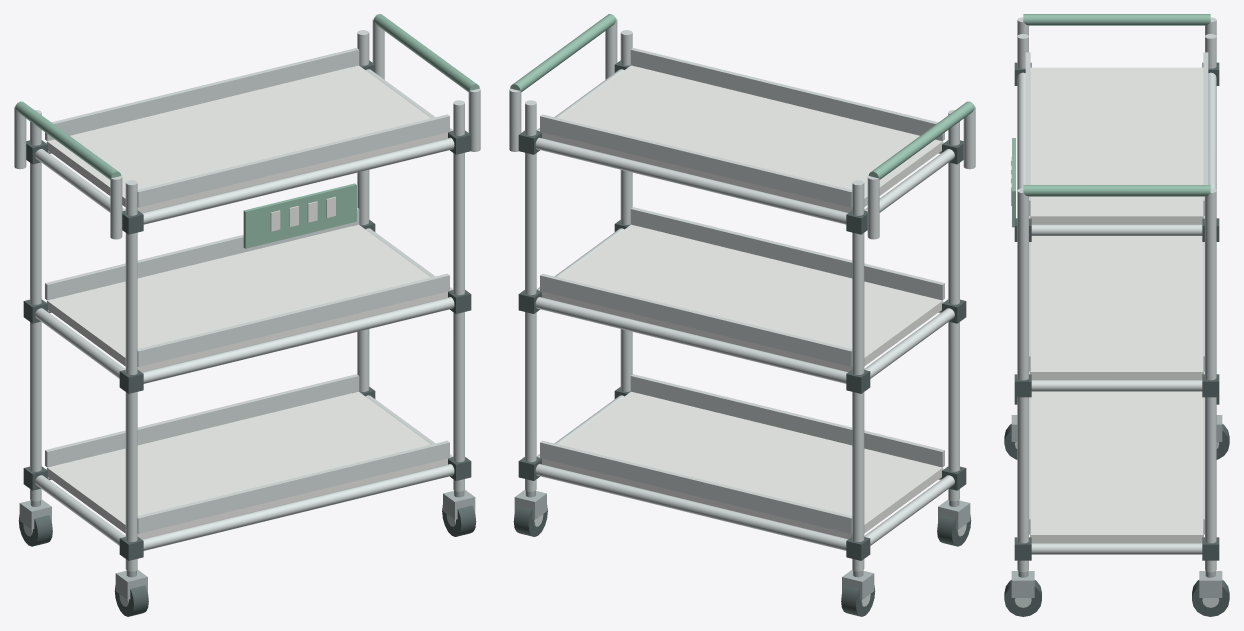
File: cart.glb
3 renders of one model, left to right at view 1: azimuth 30°, elevation 25°; view 2: azimuth 150°, elevation 25°; view 3: azimuth 270°, elevation 25°, orthographic. The views are drawn at different scales.
Visible parts, largest first — view 1: IPT-vagn; view 2: IPT-vagn; view 3: IPT-vagn.
Boxes of the visible parts, left/top/right/bottom form: IPT-vagn: left=14, top=14, right=480, bottom=616; IPT-vagn: left=509, top=14, right=975, bottom=616; IPT-vagn: left=1004, top=14, right=1229, bottom=616.
Size of the model in its own units: 0.994 by 1.15 by 0.538.
